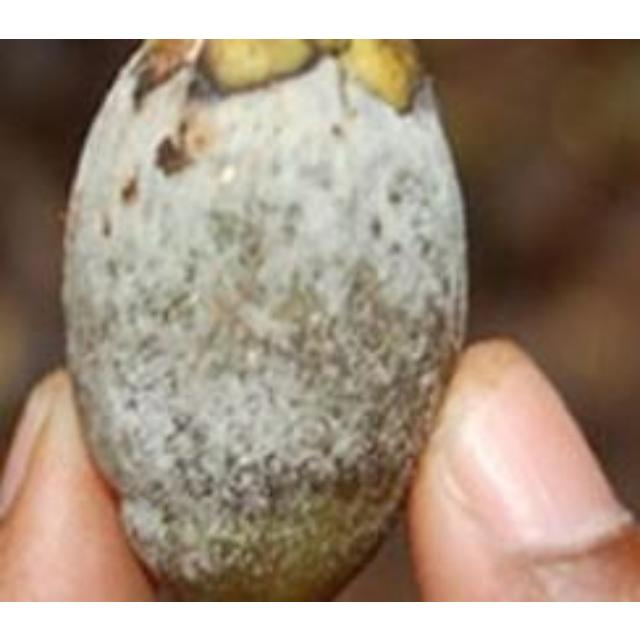damaged: (60, 38, 470, 599)
